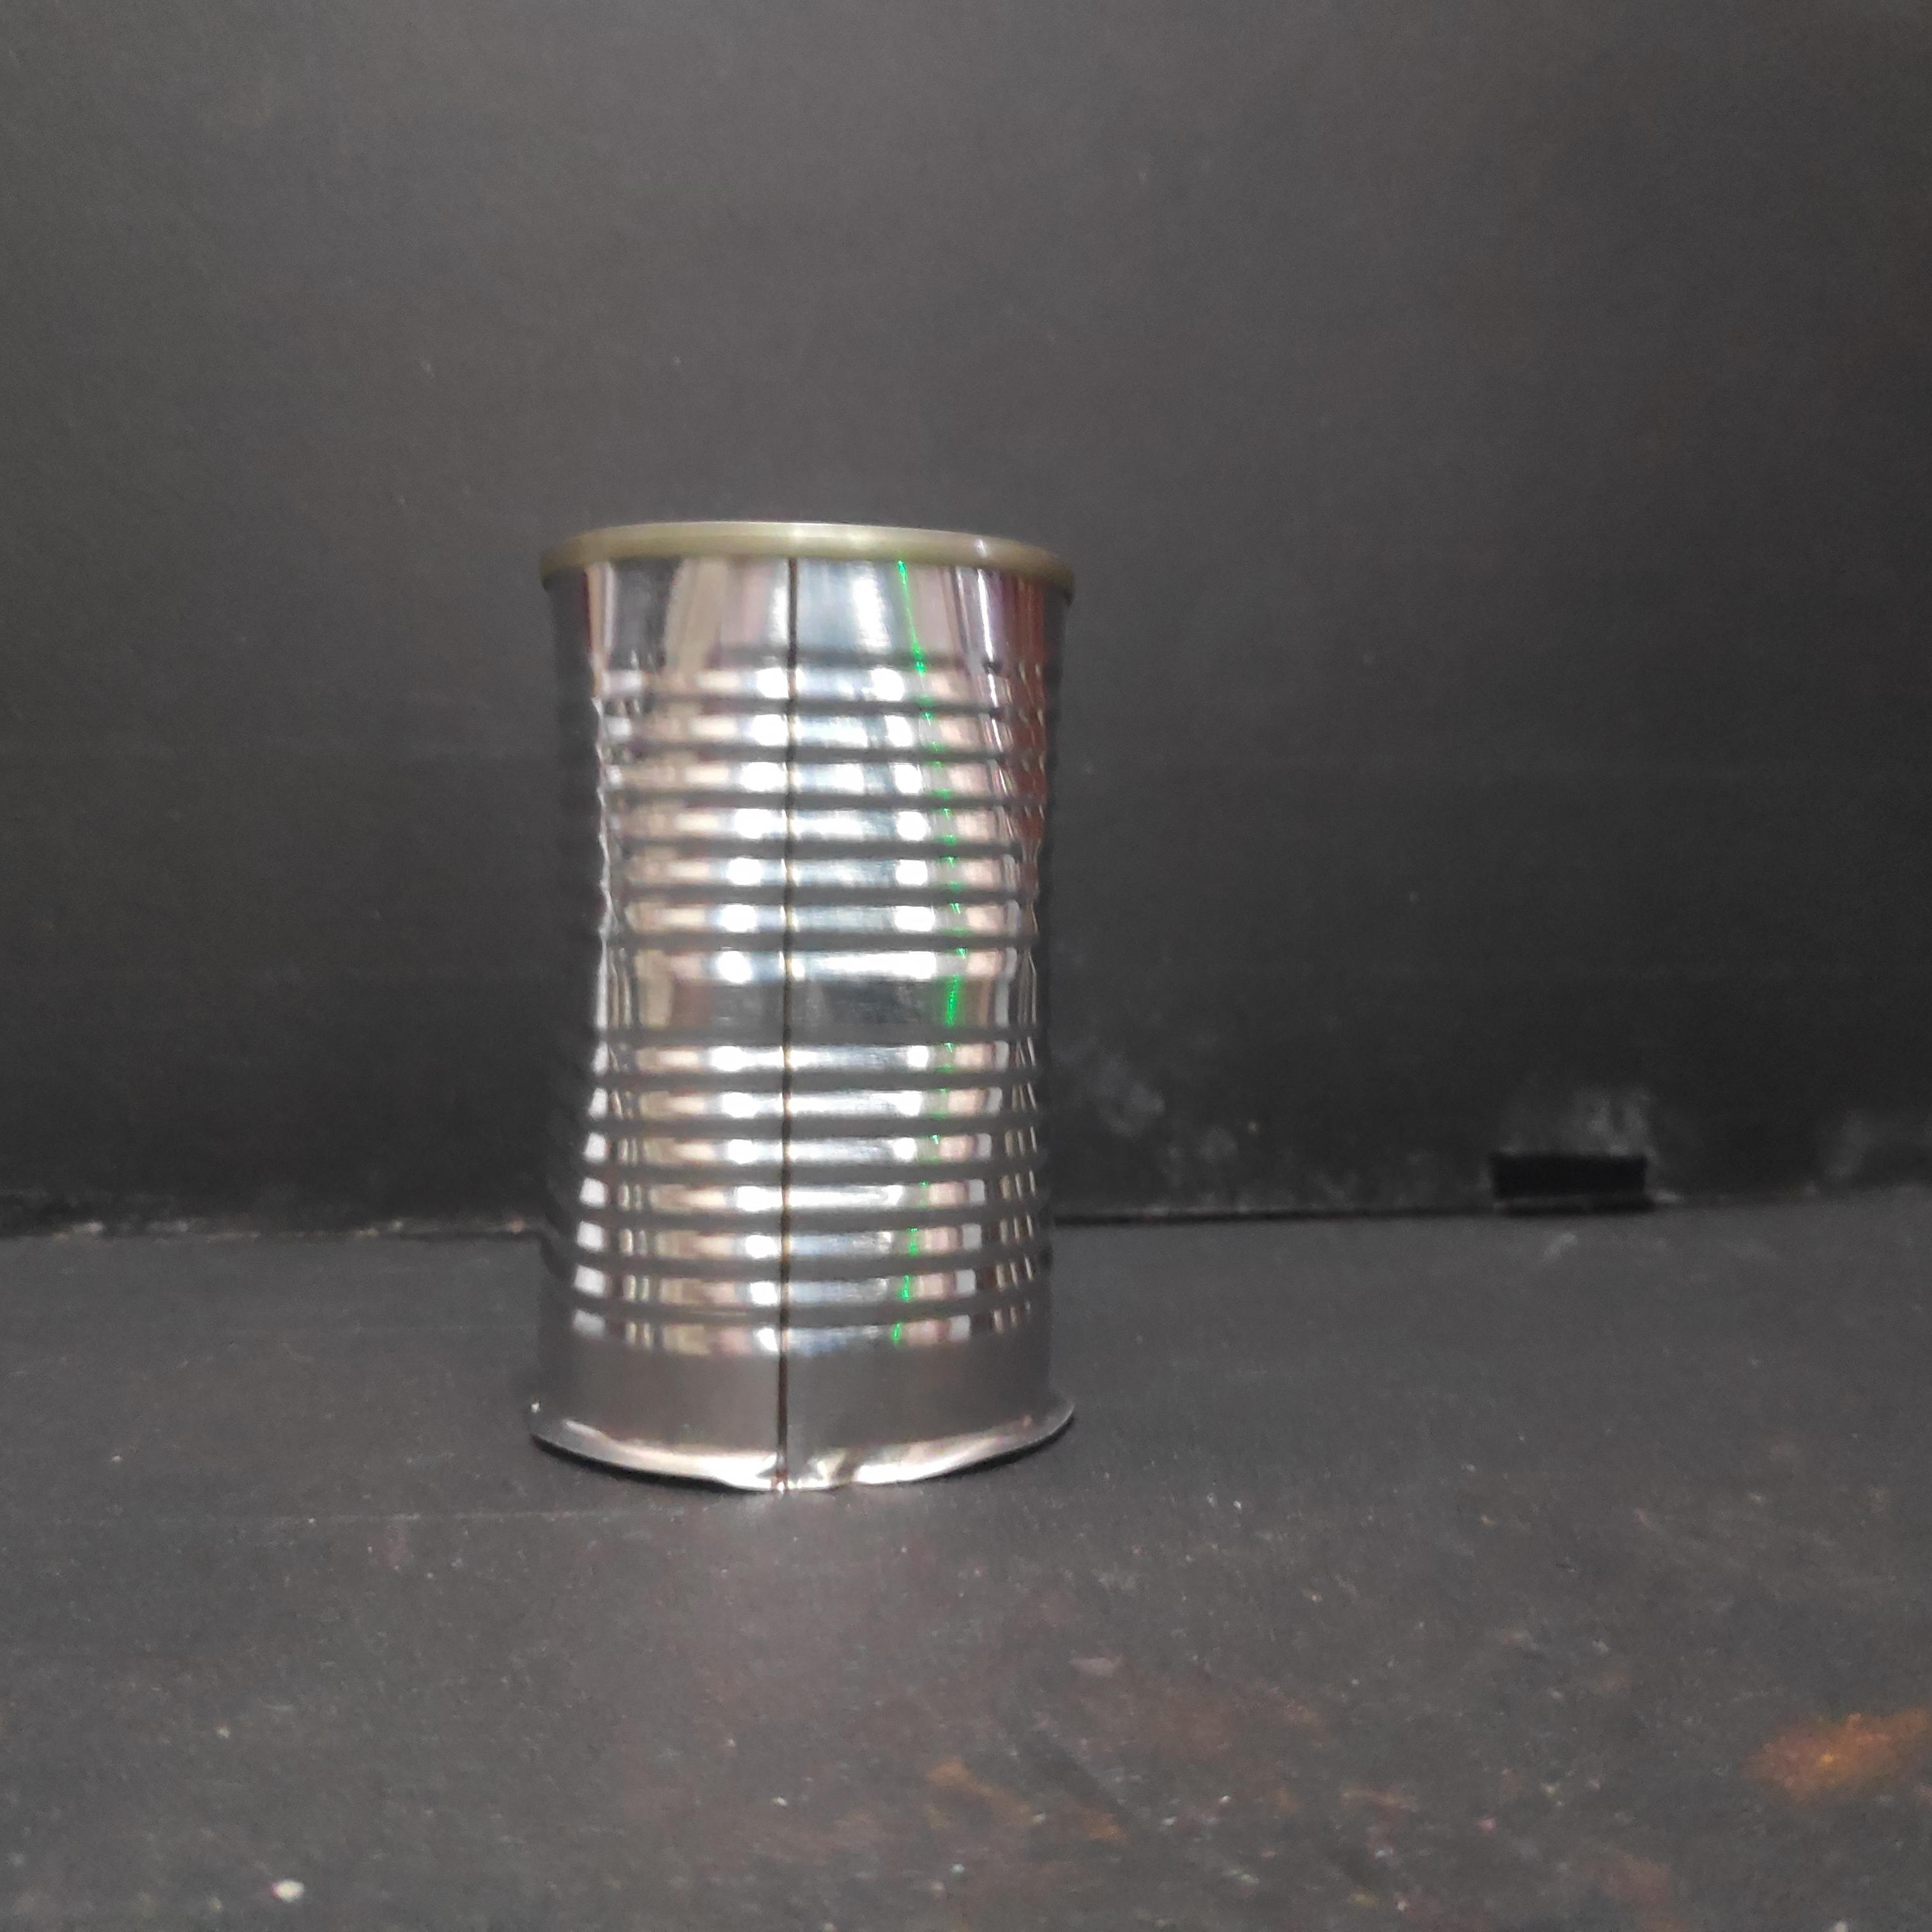Minor Defect: (538, 508, 1081, 1502)
